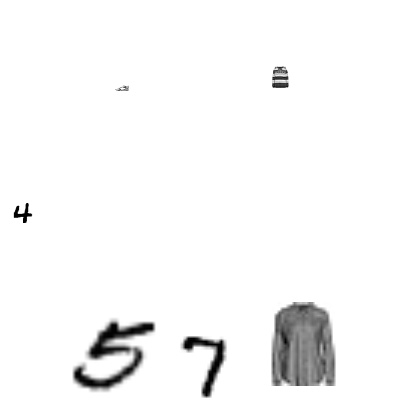5: (301, 323, 385, 407)
7: (175, 12, 231, 68)
Bag: (32, 145, 74, 187)
Coat: (142, 212, 184, 254), (87, 295, 115, 323)
Sneaker: (136, 350, 192, 406), (278, 84, 306, 112)
